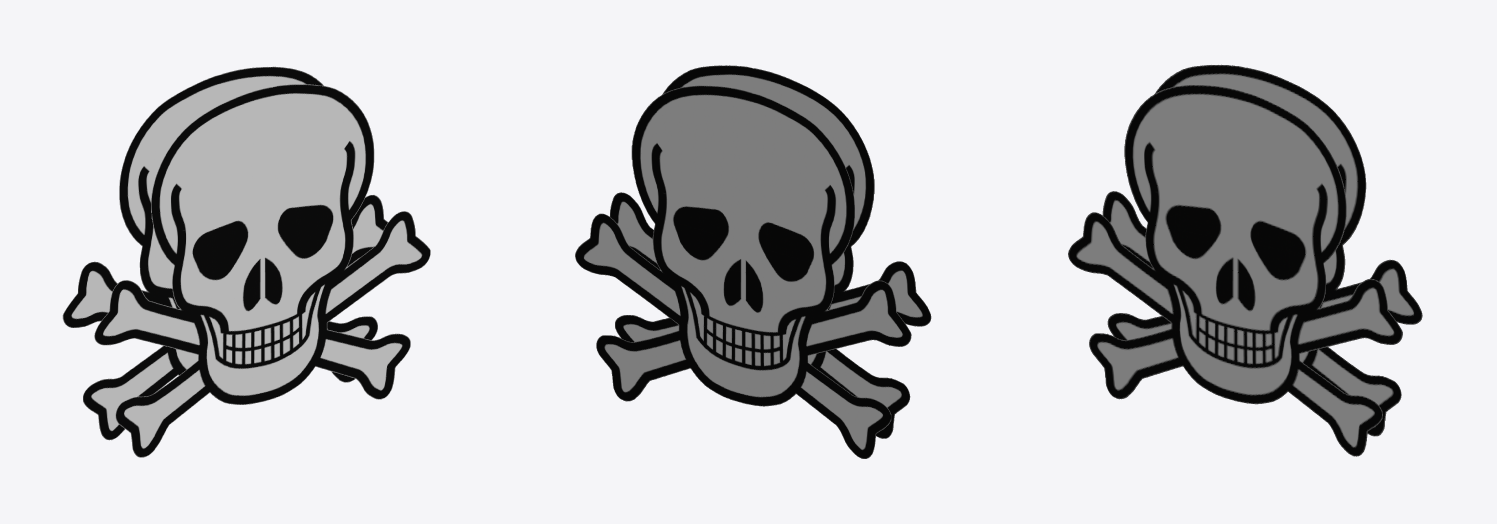
Rendered from Miniscene5_Skull&Crpss Bones2.fbx.
3 renders of one model, left to right at view 1: azimuth 30°, elevation 25°; view 2: azimuth 150°, elevation 25°; view 3: azimuth 330°, elevation 25°, orthographic.
Visible parts, largest first — view 1: Model; view 2: Model; view 3: Model.
Boxes of the visible parts, box(x1,y1,x2,y2) form: Model: box(62, 66, 430, 457); Model: box(575, 65, 931, 458); Model: box(1068, 64, 1422, 456).
Size of the model in its own units: 96.33 by 96.33 by 9.62.
